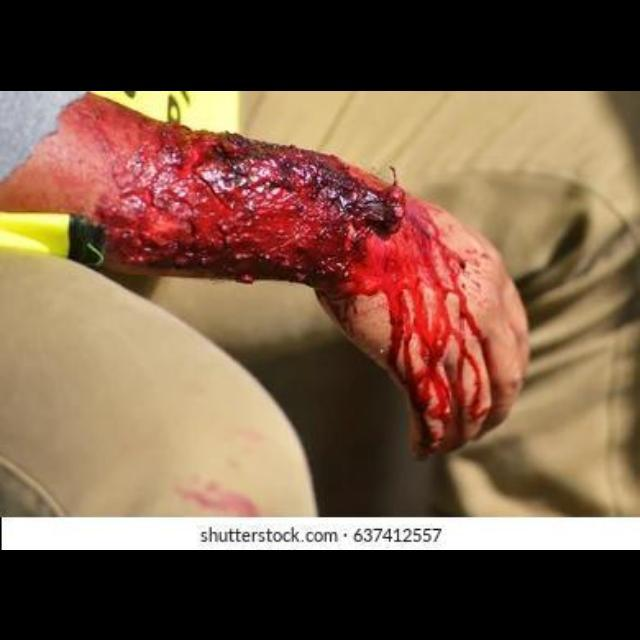blood: (77, 100, 492, 445)
